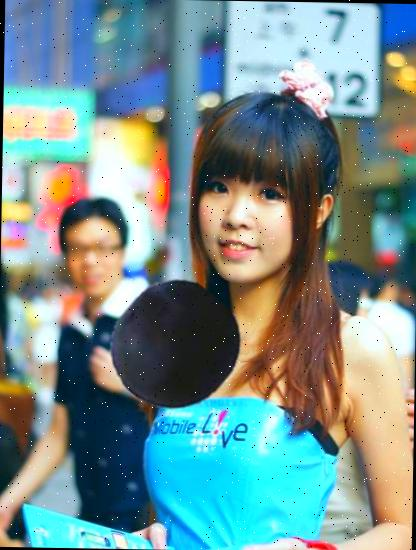Grape: (110, 282, 239, 411)
